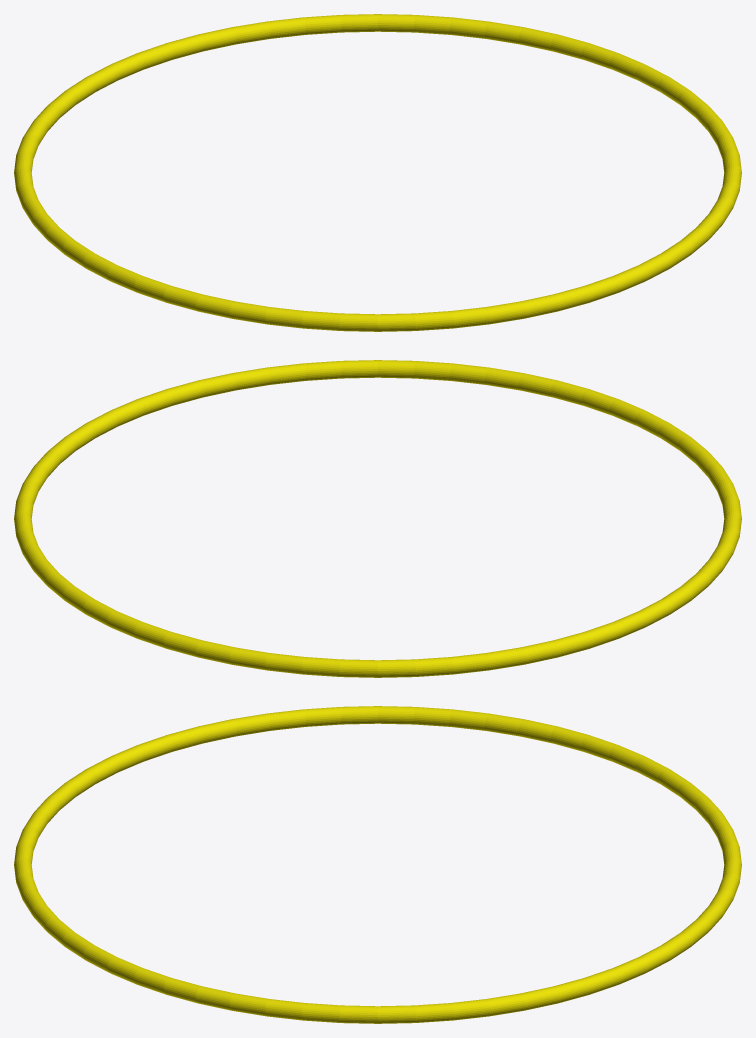
Rendered from ring.fbx.
The picture shows the model from 3 angles, top to bottom: view 1: azimuth 30°, elevation 25°; view 2: azimuth 150°, elevation 25°; view 3: azimuth 270°, elevation 25°; orthographic projection.
Parts seen in each view (by area): view 1: Torus.001; view 2: Torus.001; view 3: Torus.001.
Boxes of the visible parts, x1,y1,x2,y2 form: Torus.001: (14, 14, 741, 331); Torus.001: (14, 360, 741, 677); Torus.001: (14, 706, 741, 1023).
Size of the model in its own units: 4100 by 99.45 by 4100.
